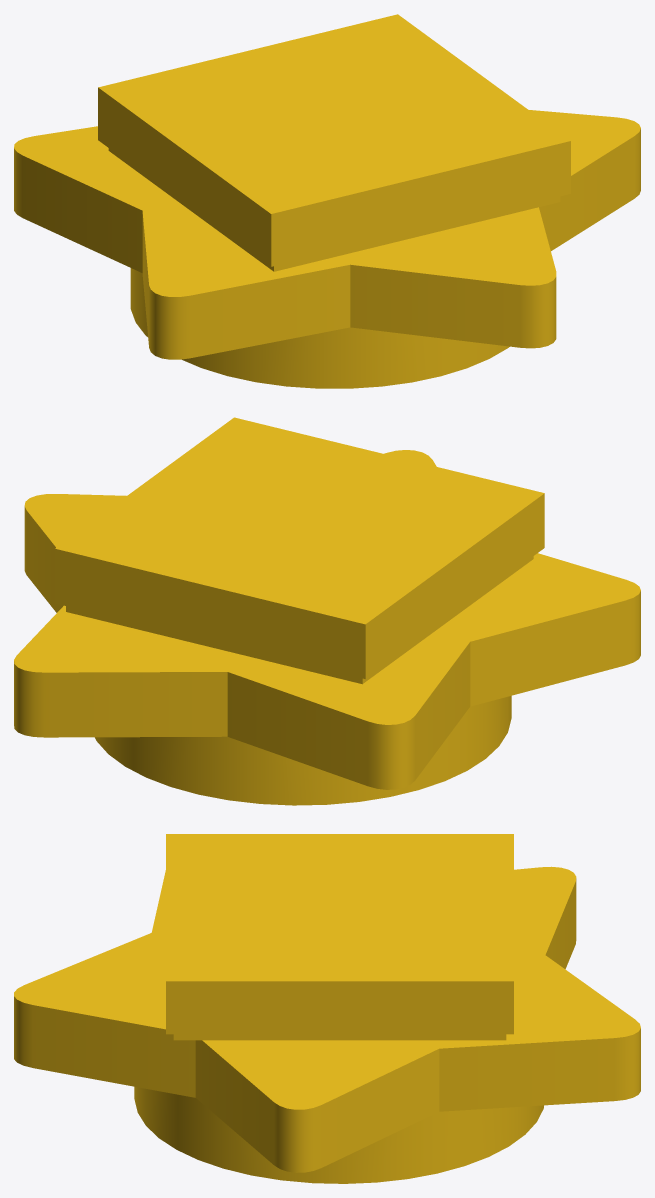
Rendered from star.fbx.
3 views of the same model, one above another, from view 1: azimuth 30°, elevation 25°; view 2: azimuth 150°, elevation 25°; view 3: azimuth 270°, elevation 25° (orthographic). The views are drawn at different scales.
Visible parts, largest first — view 1: part.001, part; view 2: part.001, part; view 3: part.001, part.
Part boxes in pixels (left/top/right/bottom): part.001: left=14, top=110, right=640, bottom=388; part: left=98, top=14, right=570, bottom=271; part.001: left=14, top=450, right=640, bottom=805; part: left=55, top=417, right=544, bottom=684; part.001: left=14, top=866, right=640, bottom=1183; part: left=166, top=834, right=513, bottom=1040.
Bounding box in the file's own units: 2847 × 956 × 2867.
